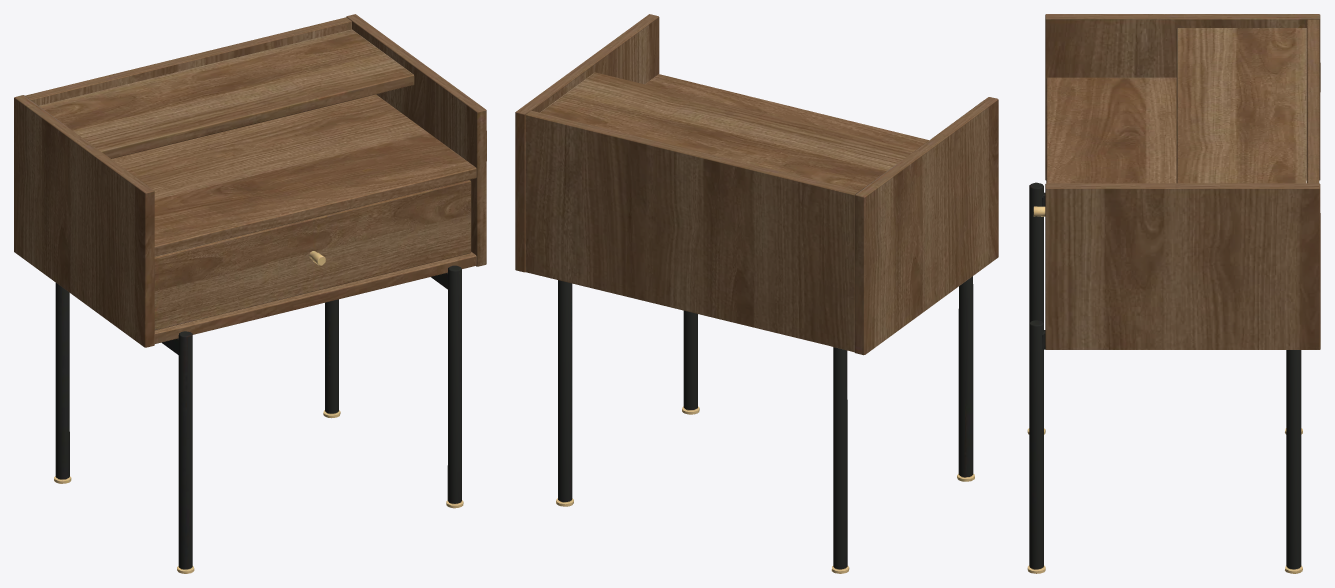
The picture shows the model from 3 angles, left to right: view 1: azimuth 30°, elevation 25°; view 2: azimuth 150°, elevation 25°; view 3: azimuth 270°, elevation 25°; orthographic projection. The views are drawn at different scales.
Visible parts, largest first — view 1: ASY_ART_80593597_S01_NV01; view 2: ASY_ART_80593597_S01_NV01; view 3: ASY_ART_80593597_S01_NV01.
Boxes of the visible parts, x1,y1,x2,y2 form: ASY_ART_80593597_S01_NV01: [14, 14, 486, 573]; ASY_ART_80593597_S01_NV01: [515, 14, 998, 573]; ASY_ART_80593597_S01_NV01: [1027, 14, 1320, 573].
Bounding box in the file's own units: 0.54 × 0.58 × 0.383.
Materials: 2 (2 with a texture image).
